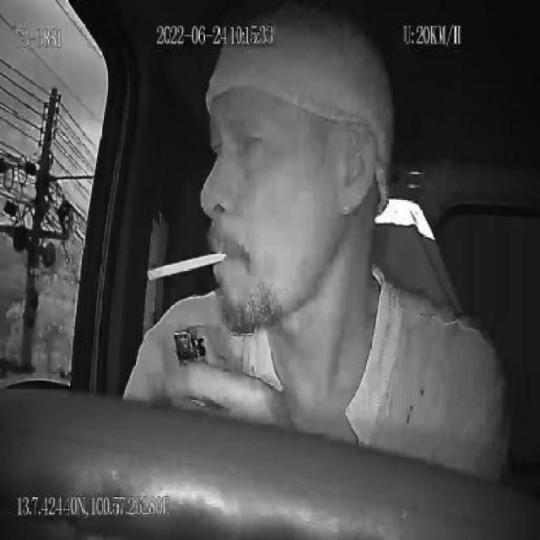smoking: (146, 246, 230, 282)
